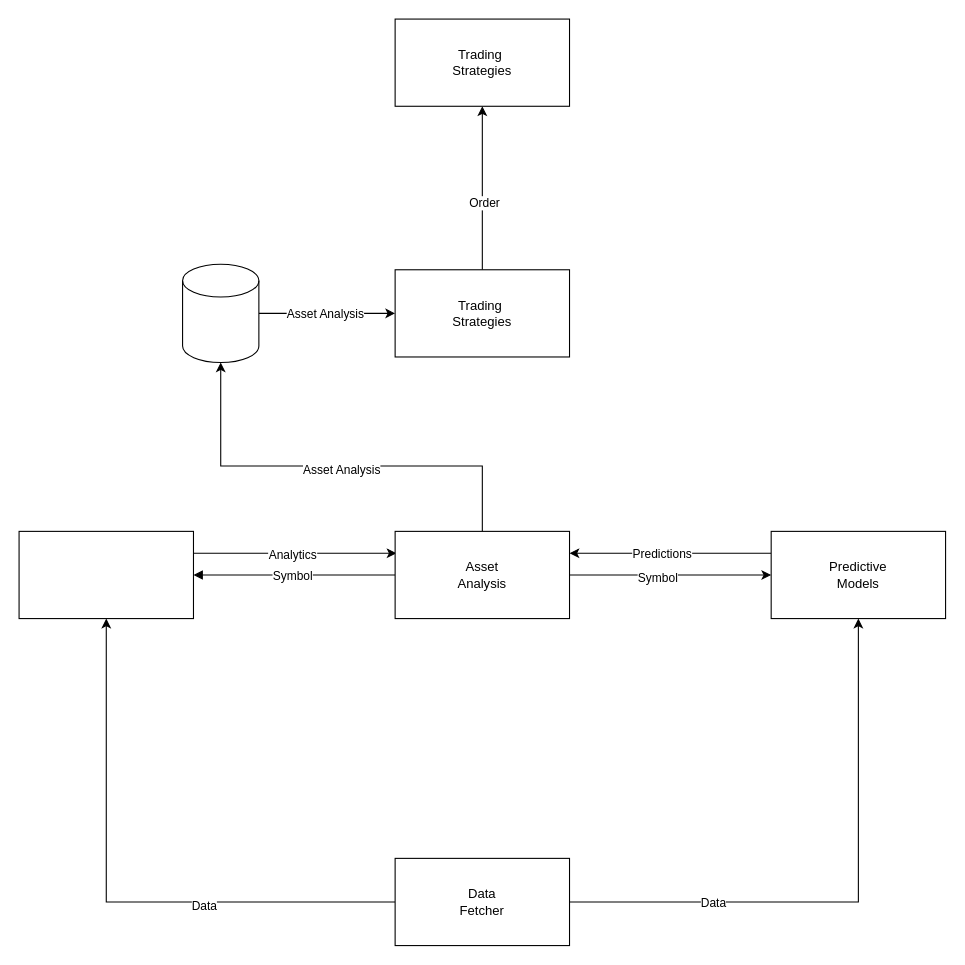
Some shapes in this 965 by 965 pixel diagram are drawn without their labels. The shapes that lost their labels are listed below. From the top down, each one's centre as x and y in pixels, then its label:
the point at 220,312: Database
the point at 105,574: Technical Analysis
